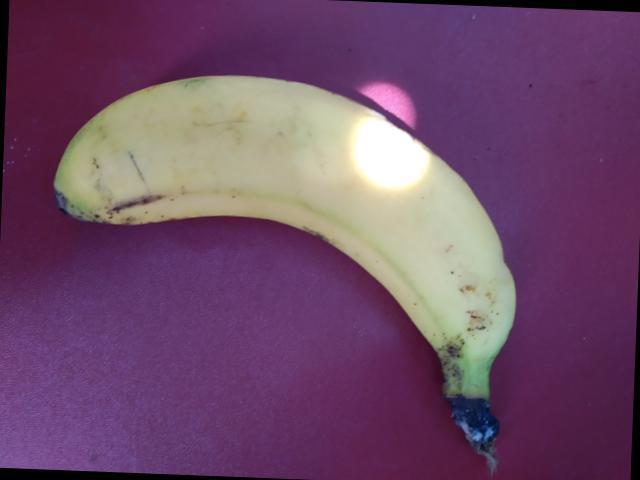freshripe: (68, 63, 540, 387)
